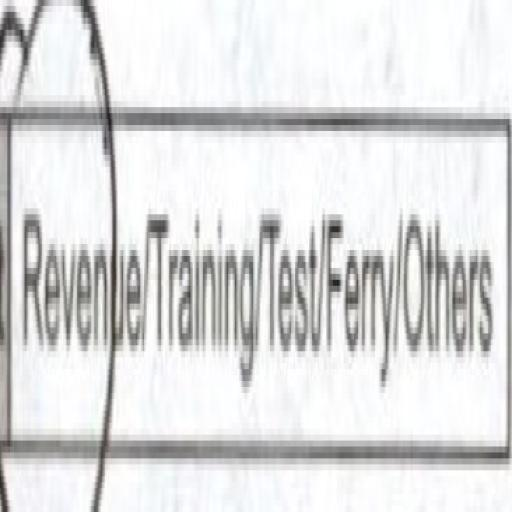check: (2, 0, 141, 512)
